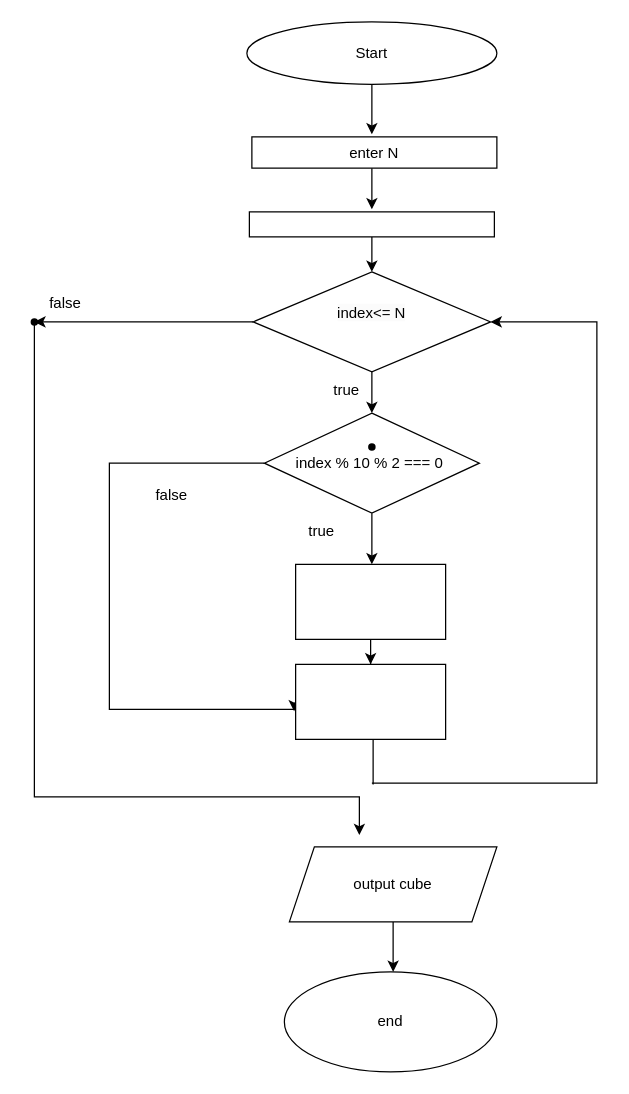
Some shapes in this 629 by 1094 pixel diagram are drawn without their labels. The box of each missing label's shape, as (x1, y1, x2, y2) in pixels:
cube = i ** 3: (294, 563, 446, 639)
index = 1: (248, 211, 494, 237)
index = index +1: (294, 663, 446, 739)
